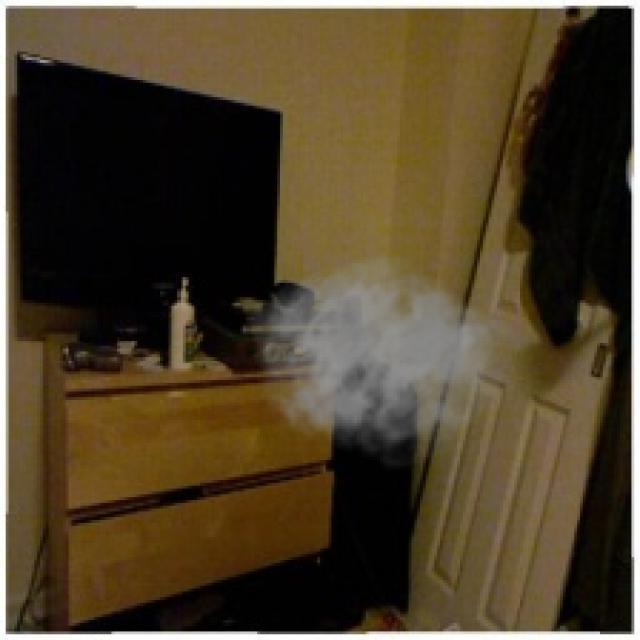Smoke: (245, 254, 520, 472)
